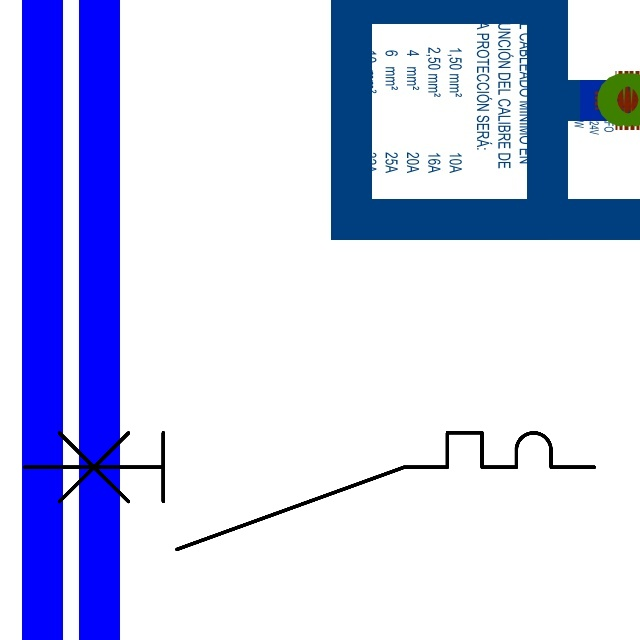interruptor_termomagnetico: (10, 418, 609, 564)
